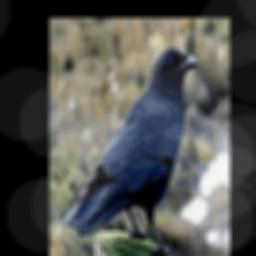Crow: (61, 46, 197, 256)
